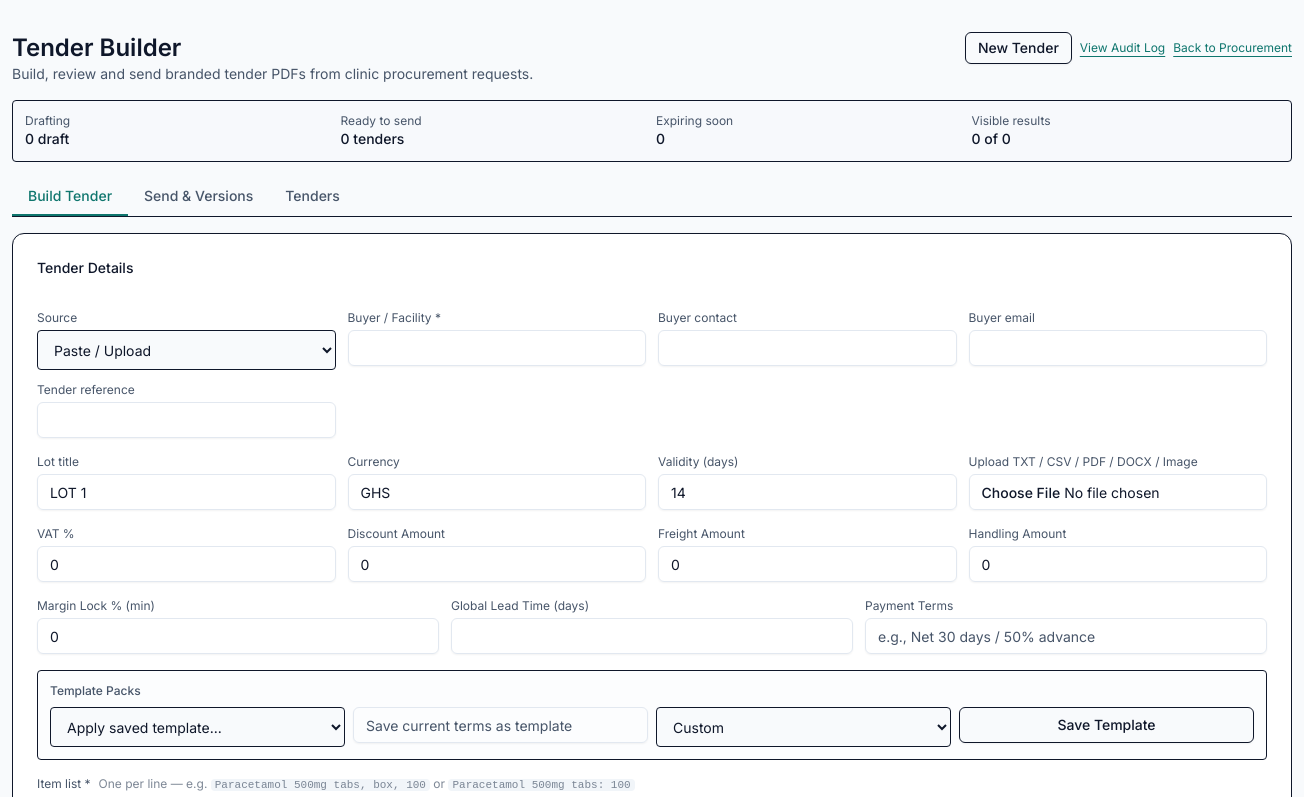
AdminB2BTendersPage › disables history Send action for draft and terminal tenders
Click the tab "Tenders": (313, 197) [269, 178, 356, 216]
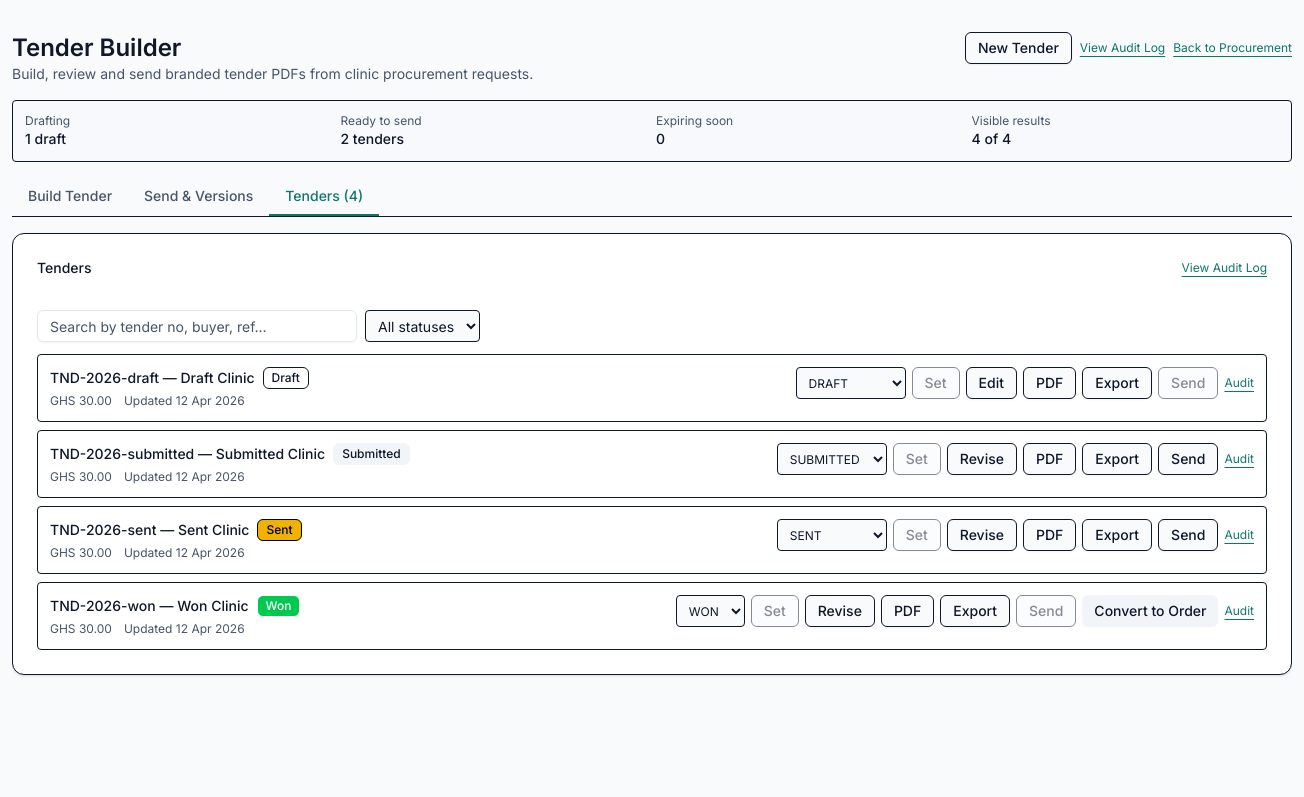
Check: the text "TND-2026-draft — Draft Clinic" is shown, box [50, 368, 254, 388]
Check: the button "Send" in the row of "Draft Clinic" is disabled, box [1158, 367, 1218, 399]
Check: the button "Send" in the row of "Submitted Clinic" is enabled, box [1158, 443, 1218, 475]
